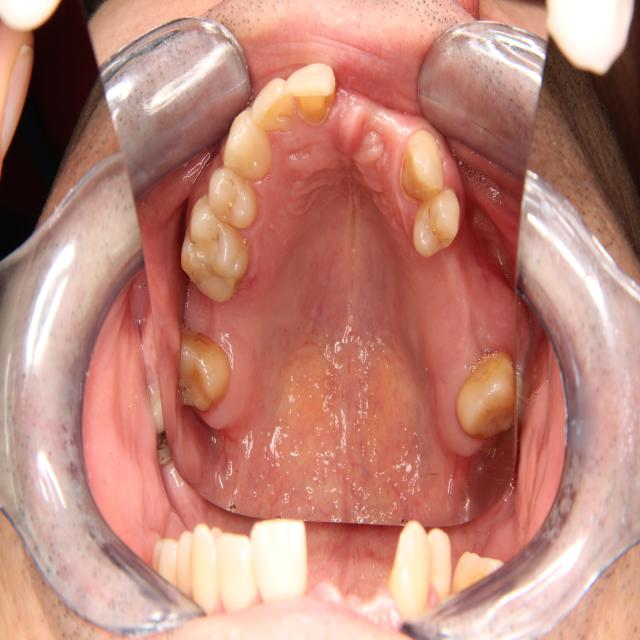tooth: (174, 181, 255, 306), (450, 340, 525, 453), (156, 320, 236, 417), (202, 155, 269, 235), (220, 101, 277, 187), (396, 121, 448, 210), (285, 56, 342, 130), (408, 183, 462, 260), (248, 68, 297, 144)
